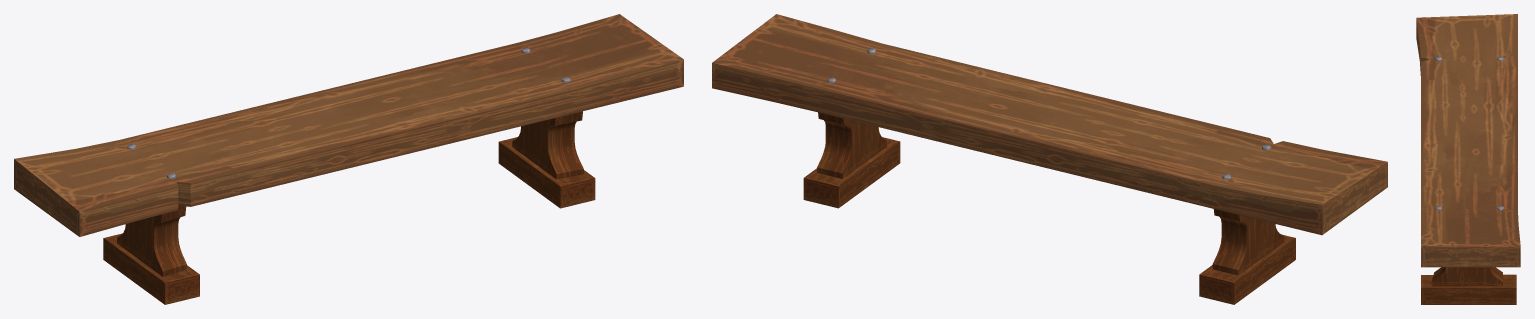
File: Bench.gltf
3 views of the same model, side by side, from view 1: azimuth 30°, elevation 25°; view 2: azimuth 150°, elevation 25°; view 3: azimuth 270°, elevation 25° (orthographic). The views are drawn at different scales.
Parts seen in each view (by area): view 1: Bench; view 2: Bench; view 3: Bench.
Boxes of the visible parts, box(x1,y1,x2,y2) form: Bench: box(14, 14, 683, 304); Bench: box(712, 14, 1387, 304); Bench: box(1416, 14, 1520, 304).
Bounding box in the file's own units: 2.78 × 0.5332 × 0.5343.
2 materials, 2 textured.
